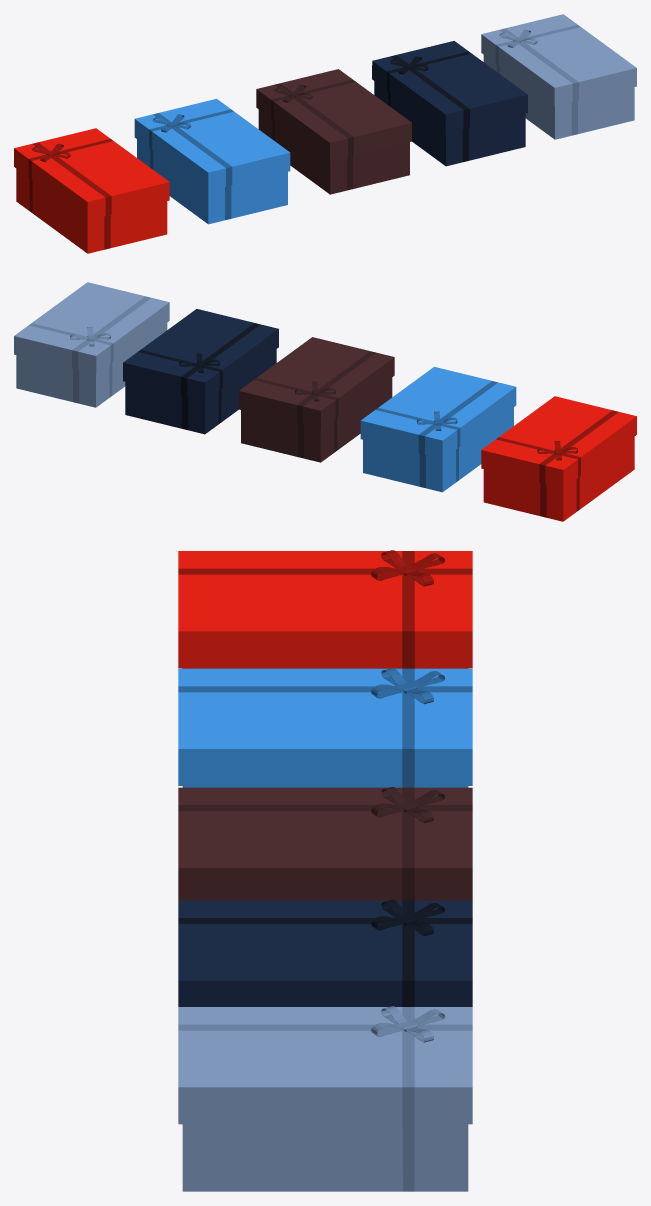
The model's file is Packed Item_Art_Sneaker.fbx.
The picture shows the model from 3 angles, top to bottom: view 1: azimuth 30°, elevation 25°; view 2: azimuth 150°, elevation 25°; view 3: azimuth 270°, elevation 25°; orthographic projection. The views are drawn at different scales.
Parts seen in each view (by area): view 1: Packed_Gift Box_Art_TshirtRed, Packed_Gift Box_Art_SuitBrown, Packed_Gift Box_Art_TshirtBlue, Packed_Gift Box_Art_Suit Navy Blue, Packed_Gift Box_Art_Jeans; view 2: Packed_Gift Box_Art_TshirtRed, Packed_Gift Box_Art_SuitBrown, Packed_Gift Box_Art_TshirtBlue, Packed_Gift Box_Art_Suit Navy Blue, Packed_Gift Box_Art_Jeans; view 3: Packed_Gift Box_Art_Jeans, Packed_Gift Box_Art_TshirtBlue, Packed_Gift Box_Art_TshirtRed, Packed_Gift Box_Art_SuitBrown, Packed_Gift Box_Art_Suit Navy Blue.
Part boxes in pixels (left/top/right/bottom): Packed_Gift Box_Art_TshirtRed: left=14, top=128, right=169, bottom=253; Packed_Gift Box_Art_SuitBrown: left=256, top=69, right=411, bottom=194; Packed_Gift Box_Art_TshirtBlue: left=134, top=98, right=290, bottom=224; Packed_Gift Box_Art_Suit Navy Blue: left=372, top=41, right=527, bottom=166; Packed_Gift Box_Art_Jeans: left=481, top=14, right=636, bottom=139; Packed_Gift Box_Art_TshirtRed: left=481, top=396, right=636, bottom=521; Packed_Gift Box_Art_SuitBrown: left=239, top=337, right=394, bottom=462; Packed_Gift Box_Art_TshirtBlue: left=360, top=366, right=516, bottom=492; Packed_Gift Box_Art_Suit Navy Blue: left=123, top=309, right=278, bottom=434; Packed_Gift Box_Art_Jeans: left=14, top=282, right=169, bottom=407; Packed_Gift Box_Art_Jeans: left=178, top=1006, right=472, bottom=1191; Packed_Gift Box_Art_TshirtBlue: left=178, top=668, right=472, bottom=787; Packed_Gift Box_Art_TshirtRed: left=178, top=550, right=472, bottom=668; Packed_Gift Box_Art_SuitBrown: left=178, top=787, right=472, bottom=900; Packed_Gift Box_Art_Suit Navy Blue: left=178, top=899, right=472, bottom=1006.
Bounding box in the file's own units: 425 × 42.67 × 98.58.
